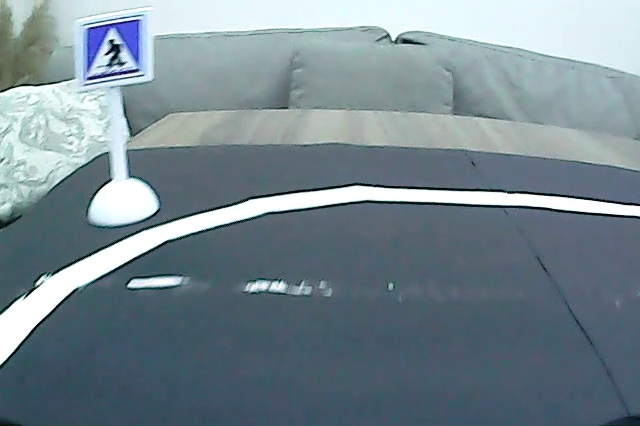pedestrian crossing: (78, 14, 150, 80)
